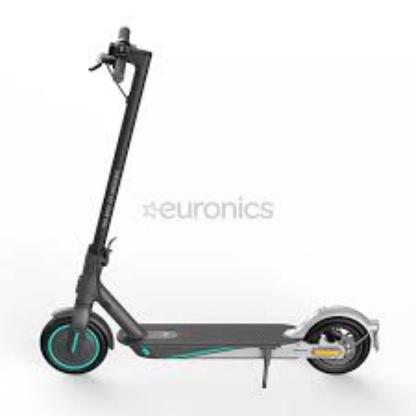bike: (39, 26, 380, 392)
